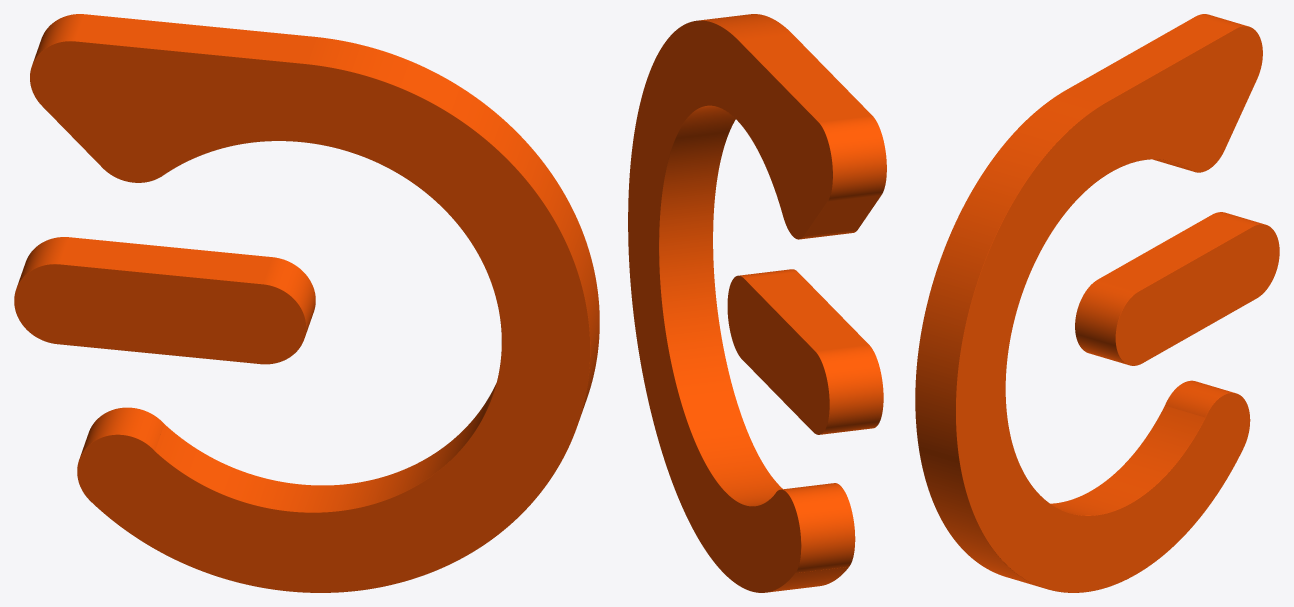
Rendered from 3dsvg.glb.
3 renders of one model, left to right at view 1: azimuth 30°, elevation 25°; view 2: azimuth 150°, elevation 25°; view 3: azimuth 270°, elevation 25°, orthographic. The views are drawn at different scales.
Size of the model in its own units: 3.29 by 4.06 by 2.79.
